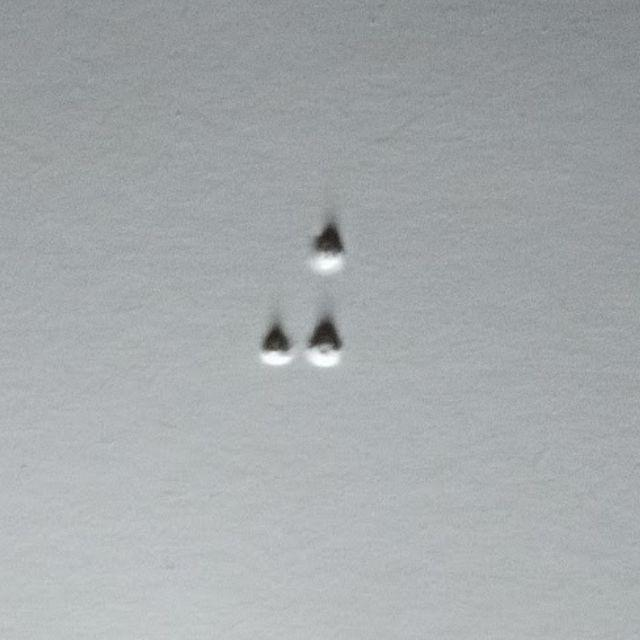ing: (256, 224, 345, 367)
